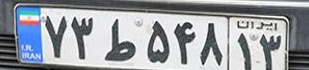character: (101, 16, 138, 63), (139, 16, 173, 64), (42, 11, 70, 60), (198, 19, 226, 68), (70, 12, 96, 64), (173, 15, 199, 66), (257, 30, 285, 70), (233, 30, 257, 70)
